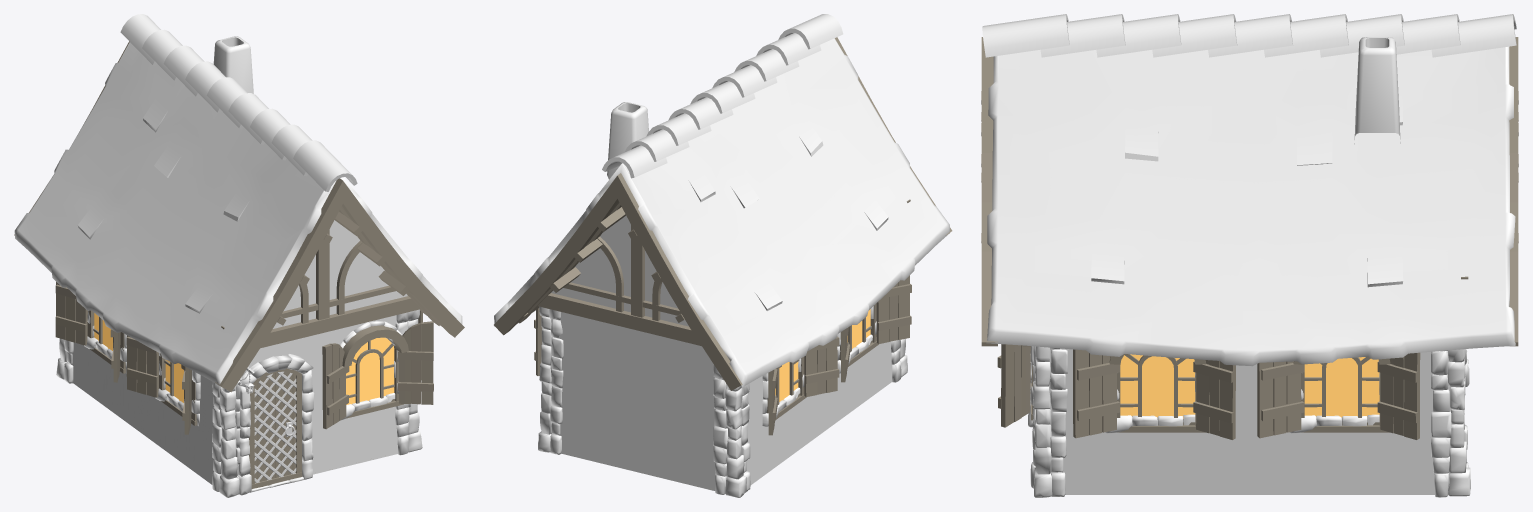
The model's file is icemantle_family_home.glb.
3 views of the same model, side by side, from view 1: azimuth 30°, elevation 25°; view 2: azimuth 150°, elevation 25°; view 3: azimuth 270°, elevation 25° (orthographic). The views are drawn at different scales.
Parts seen in each view (by area): view 1: village/MI_FlatTiles, village/MI_UnevenBrick, village/MI_WoodTrim_Wear, village/MI_WoodTrim, village/MI_RockTrim, village/MI_RoundTiles, village/MI_WindowGlass, village/MI_MetalOrnaments; view 2: village/MI_FlatTiles, village/MI_UnevenBrick, village/MI_WoodTrim, village/MI_RockTrim, village/MI_RoundTiles, village/MI_WoodTrim_Wear, village/MI_WindowGlass; view 3: village/MI_FlatTiles, village/MI_UnevenBrick, village/MI_WoodTrim_Wear, village/MI_RoundTiles, village/MI_RockTrim, village/MI_WindowGlass, village/MI_WoodTrim.
Boxes of the visible parts, bbox=[...] form: village/MI_FlatTiles: bbox=[14, 42, 462, 385]; village/MI_UnevenBrick: bbox=[72, 36, 407, 484]; village/MI_WoodTrim_Wear: bbox=[55, 282, 433, 488]; village/MI_WoodTrim: bbox=[14, 41, 464, 392]; village/MI_RockTrim: bbox=[56, 309, 422, 497]; village/MI_RoundTiles: bbox=[120, 14, 357, 191]; village/MI_WindowGlass: bbox=[94, 313, 394, 404]; village/MI_MetalOrnaments: bbox=[254, 371, 296, 483]; village/MI_FlatTiles: bbox=[494, 38, 949, 387]; village/MI_UnevenBrick: bbox=[549, 102, 892, 490]; village/MI_WoodTrim: bbox=[494, 37, 952, 390]; village/MI_RockTrim: bbox=[538, 306, 907, 497]; village/MI_RoundTiles: bbox=[602, 14, 843, 178]; village/MI_WoodTrim_Wear: bbox=[534, 275, 911, 435]; village/MI_WindowGlass: bbox=[775, 309, 870, 401]; village/MI_FlatTiles: bbox=[986, 46, 1515, 366]; village/MI_UnevenBrick: bbox=[1037, 37, 1462, 494]; village/MI_WoodTrim_Wear: bbox=[997, 344, 1420, 439]; village/MI_RoundTiles: bbox=[982, 14, 1516, 57]; village/MI_RockTrim: bbox=[1028, 346, 1470, 497]; village/MI_WindowGlass: bbox=[1120, 354, 1379, 418]; village/MI_WoodTrim: bbox=[981, 37, 1518, 346].
Bounding box in the file's own units: 5.7 × 6.53 × 7.59.
